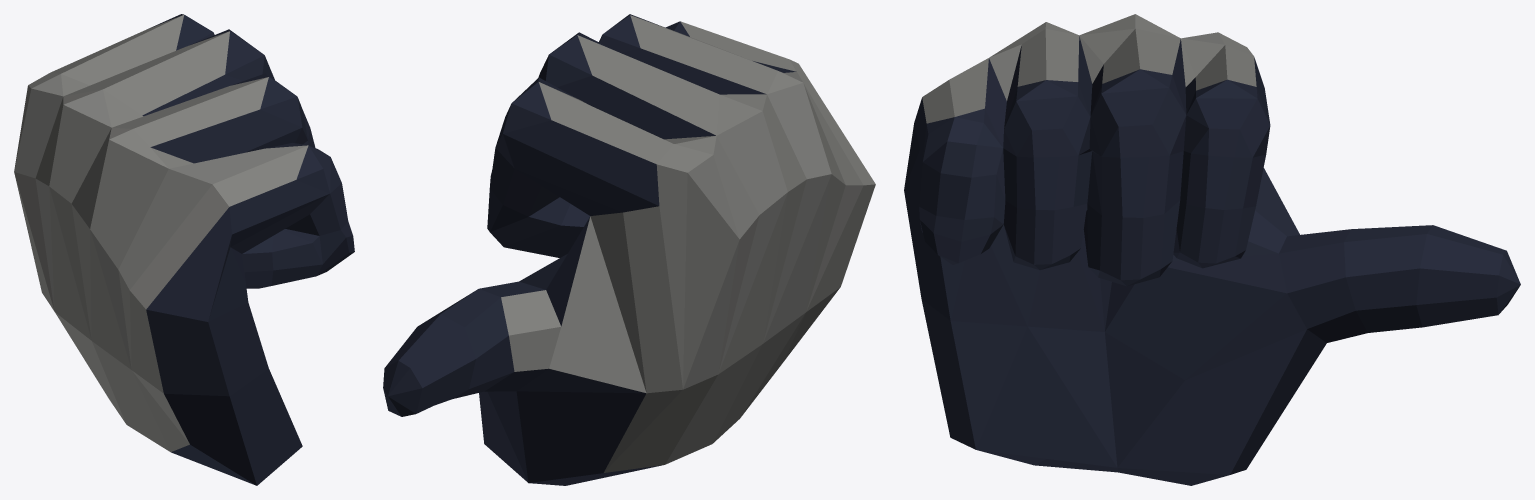
File: Hand_Closed_thumbsup.fbx
3 renders of one model, left to right at view 1: azimuth 30°, elevation 25°; view 2: azimuth 150°, elevation 25°; view 3: azimuth 270°, elevation 25°, orthographic. The views are drawn at different scales.
Visible parts, largest first — view 1: Thumbsup; view 2: Thumbsup; view 3: Thumbsup.
Boxes of the visible parts, x1=… form: Thumbsup: x1=14, y1=14, x2=354, y2=485; Thumbsup: x1=383, y1=14, x2=875, y2=485; Thumbsup: x1=904, y1=14, x2=1520, y2=485.
Size of the model in its own units: 129 by 199 by 262.
